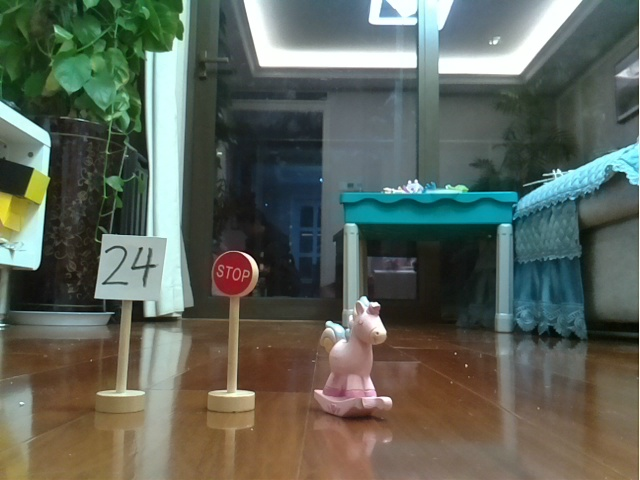Horse: (301, 291, 403, 420)
Speed Limit 24: (87, 226, 168, 414)
Stop Sign: (205, 244, 264, 418)
